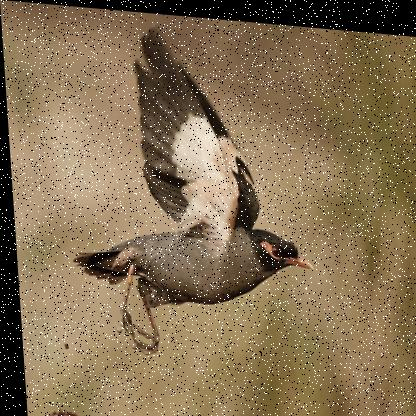Burung: (57, 19, 316, 366)
